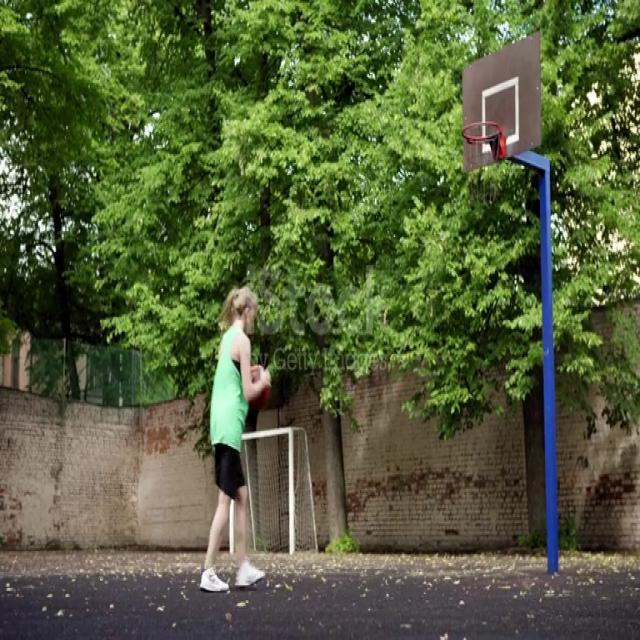ball: (247, 367, 275, 415)
